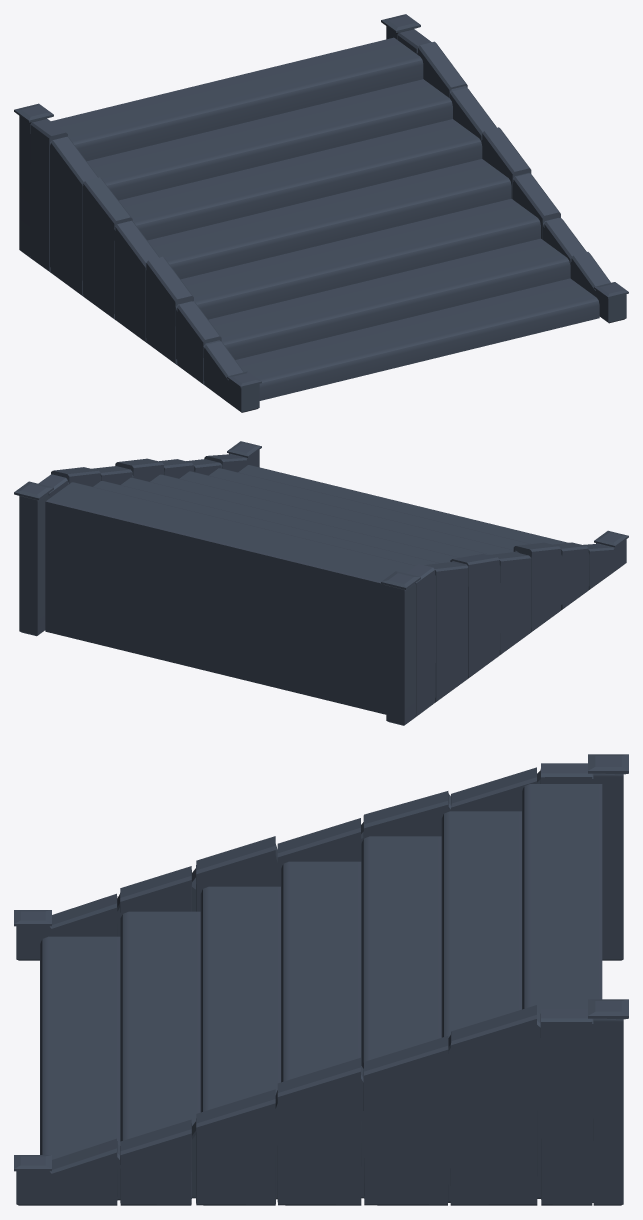
The model's file is stairsModel_V02.fbx.
The picture shows the model from 3 angles, top to bottom: view 1: azimuth 30°, elevation 25°; view 2: azimuth 150°, elevation 25°; view 3: azimuth 270°, elevation 25°; orthographic projection. The views are drawn at different scales.
Visible parts, largest first — view 1: stairs_geo; view 2: stairs_geo; view 3: stairs_geo.
Part boxes in pixels (bbox=[...]): stairs_geo: bbox=[14, 14, 628, 412]; stairs_geo: bbox=[14, 441, 628, 725]; stairs_geo: bbox=[14, 754, 628, 1205].
Bounding box in the file's own units: 176 × 175 × 61.05.
